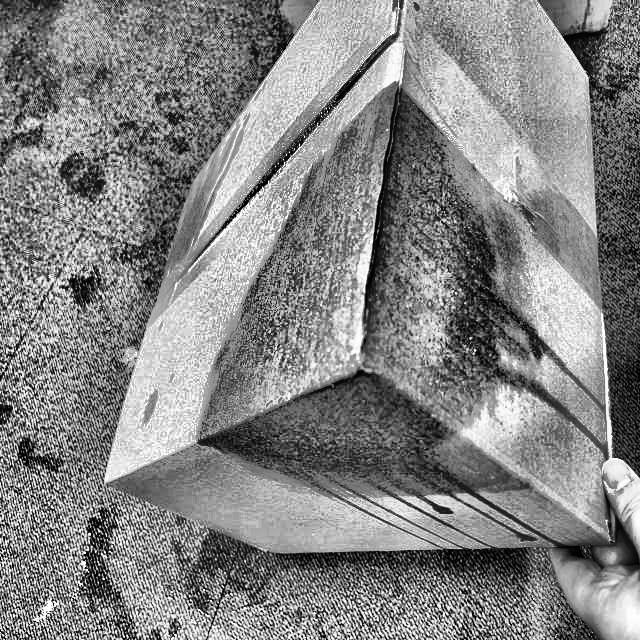box: (101, 0, 616, 557)
wet: (198, 84, 610, 546)
